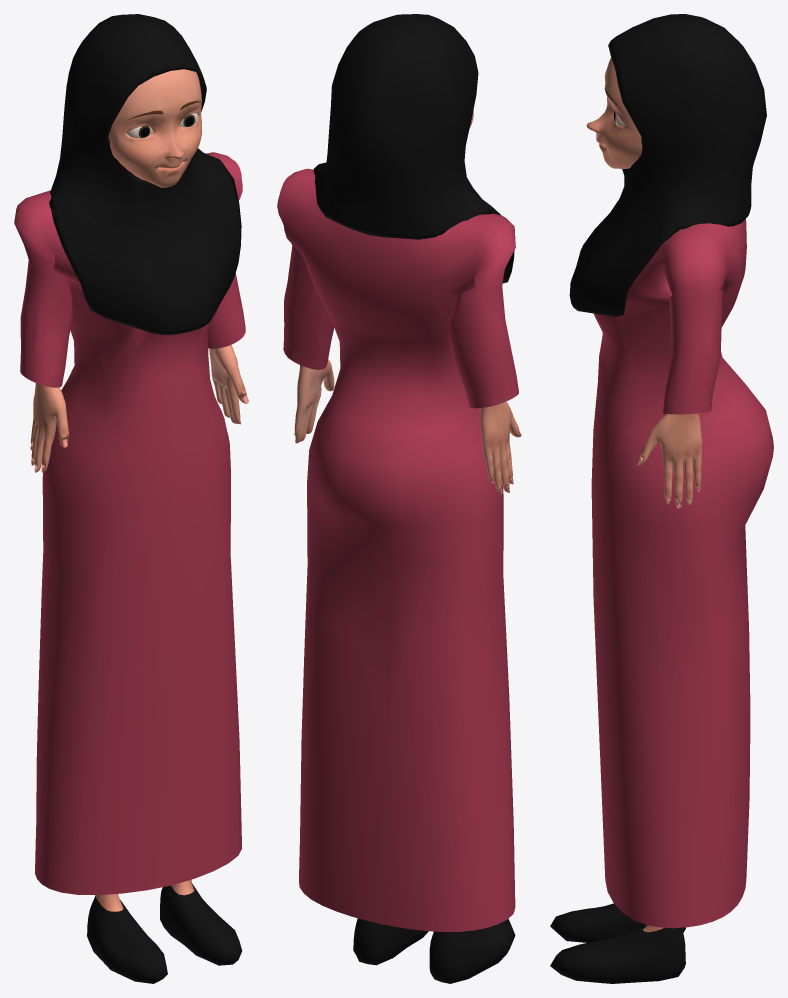
File: tudung.glb
3 renders of one model, left to right at view 1: azimuth 30°, elevation 25°; view 2: azimuth 150°, elevation 25°; view 3: azimuth 270°, elevation 25°, orthographic. The views are drawn at different scales.
Visible parts, largest first — view 1: Box001_01 - Default_0, Box002_Material #75_0, Box003_Material #75_0, 1, 3, 4; view 2: Box001_01 - Default_0, Box002_Material #75_0, Box003_Material #75_0, 3; view 3: Box001_01 - Default_0, Box002_Material #75_0, Box003_Material #75_0, 3, 1.
Boxes of the visible parts, x1,y1,x2,y2 form: Box001_01 - Default_0: (14, 152, 245, 894); Box002_Material #75_0: (49, 14, 241, 334); Box003_Material #75_0: (87, 883, 241, 983); 1: (108, 69, 201, 187); 3: (30, 345, 247, 472); 4: (96, 880, 194, 911); Box001_01 - Default_0: (277, 168, 518, 931); Box002_Material #75_0: (313, 14, 514, 283); Box003_Material #75_0: (353, 918, 515, 983); 3: (294, 359, 521, 493); Box001_01 - Default_0: (591, 219, 773, 928); Box002_Material #75_0: (569, 14, 766, 316); Box003_Material #75_0: (550, 903, 685, 983); 3: (637, 413, 702, 505); 1: (586, 57, 642, 168).
Size of the model in its own units: 0.3839 by 1.54 by 0.3324.
Materials: 11 (9 with a texture image).
